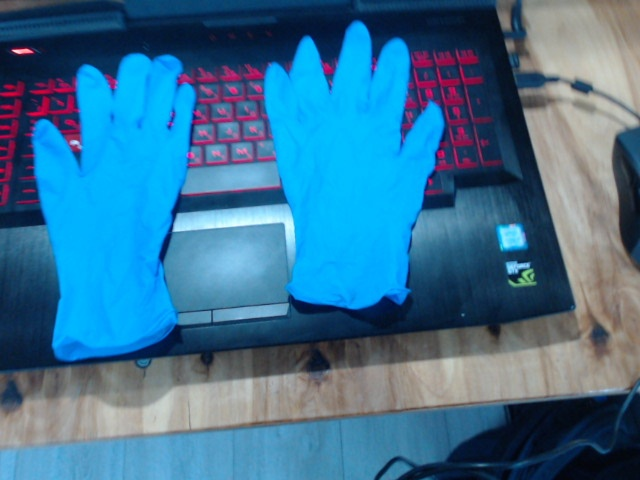medical_glove: (263, 18, 446, 310), (33, 51, 194, 359)
